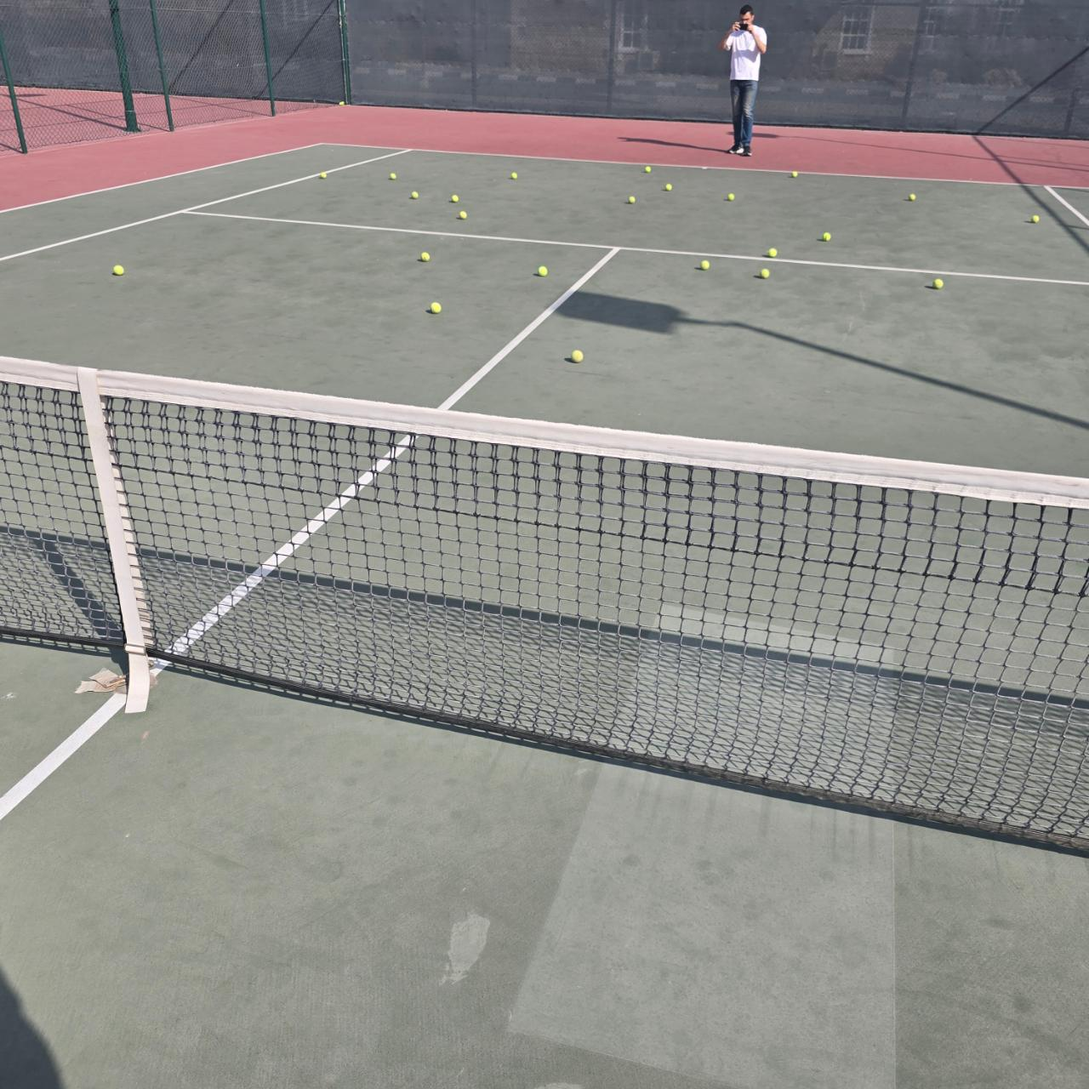tennis-ball: (569, 347, 584, 362), (427, 299, 442, 313), (111, 262, 124, 276), (932, 276, 944, 289)
